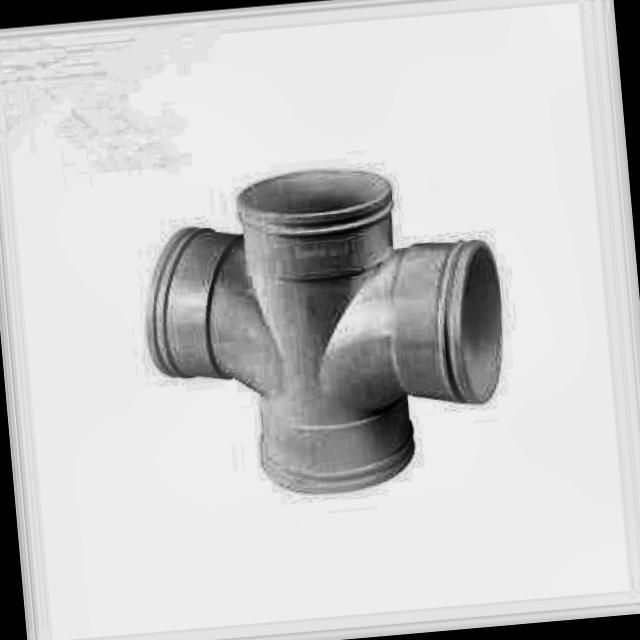EQUALCROSS: (141, 167, 505, 498)
